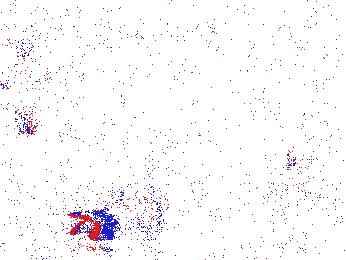flame jellyfish: (69, 182, 172, 242), (261, 150, 324, 226), (1, 49, 55, 136)
